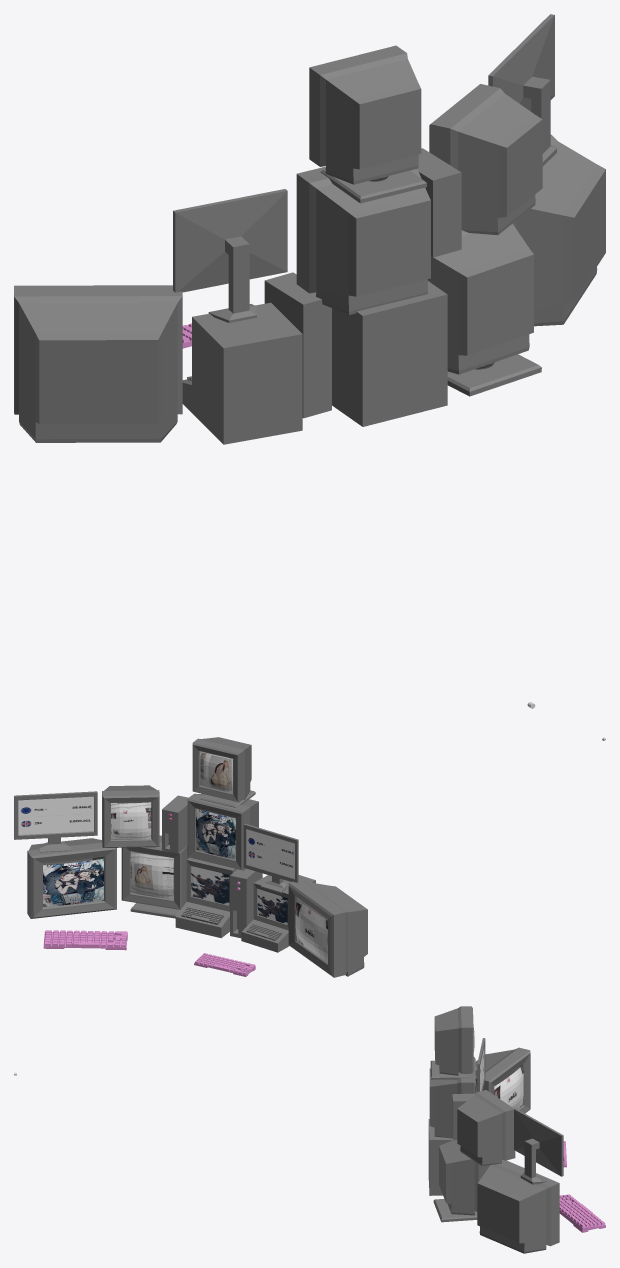
The model's file is computer1.glb.
3 renders of one model, top to bottom at view 1: azimuth 30°, elevation 25°; view 2: azimuth 150°, elevation 25°; view 3: azimuth 270°, elevation 25°, orthographic. The views are drawn at different scales.
Visible parts, largest first — view 1: Cube.016, Cube.007, Cylinder.003, Cylinder, Cube.013, Cube.003, Cube.015, Cube.010, Cube.005, Cube.004, Cube.012, Cube.001; view 2: Cube.016, Cube.010, Cube.003, Cube.011, Cylinder.003, Cube.013, Cube.009, Cylinder, Cube.007, Cube.015, Cube.002, Cube.006 (+10 smaller); view 3: Cube.010, Cube.015, Cylinder, Cylinder.003, Cube.012, Cube.007, Cube.016, Plane.001, Cube.003, Cube.017, Cube.001.
Boxes of the visible parts, x1,y1,x2,y2 form: Cube.016: (14, 285, 182, 442); Cube.007: (296, 166, 430, 314); Cylinder.003: (309, 45, 426, 203); Cylinder: (427, 224, 541, 396); Cube.013: (182, 302, 302, 444); Cube.003: (332, 281, 447, 426); Cube.015: (429, 84, 542, 235); Cube.010: (512, 134, 605, 326); Cube.005: (173, 189, 287, 322); Cube.004: (264, 272, 331, 418); Cube.012: (488, 14, 556, 166); Cube.001: (417, 148, 461, 257); Cube.016: (288, 879, 367, 977); Cube.010: (27, 838, 116, 918); Cube.003: (175, 851, 236, 938); Cube.011: (18, 796, 93, 834); Cylinder.003: (192, 737, 255, 807); Cube.013: (241, 875, 315, 952); Cube.009: (42, 858, 103, 906); Cylinder: (121, 835, 189, 918); Cube.007: (187, 793, 258, 870); Cube.015: (102, 785, 159, 847); Cube.002: (130, 851, 173, 899); Cube.006: (246, 829, 294, 878); Cube.010: (477, 1159, 559, 1253); Cube.015: (457, 1090, 515, 1165); Cylinder: (433, 1140, 489, 1222); Cylinder.003: (430, 1006, 473, 1079); Cube.012: (514, 1108, 563, 1184); Cube.007: (429, 1057, 475, 1138); Cube.016: (475, 1047, 530, 1113); Plane.001: (559, 1194, 605, 1232); Cube.003: (428, 1119, 453, 1195); Cube.017: (494, 1065, 523, 1108); Cube.001: (452, 1093, 475, 1140).
Bounding box in the file's own units: 14.88 × 7.86 × 25.32.
13 materials, 9 textured.
